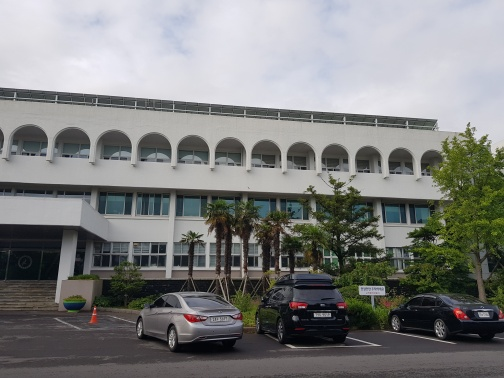Main Building of University: (4, 81, 454, 289), (49, 119, 387, 179)
